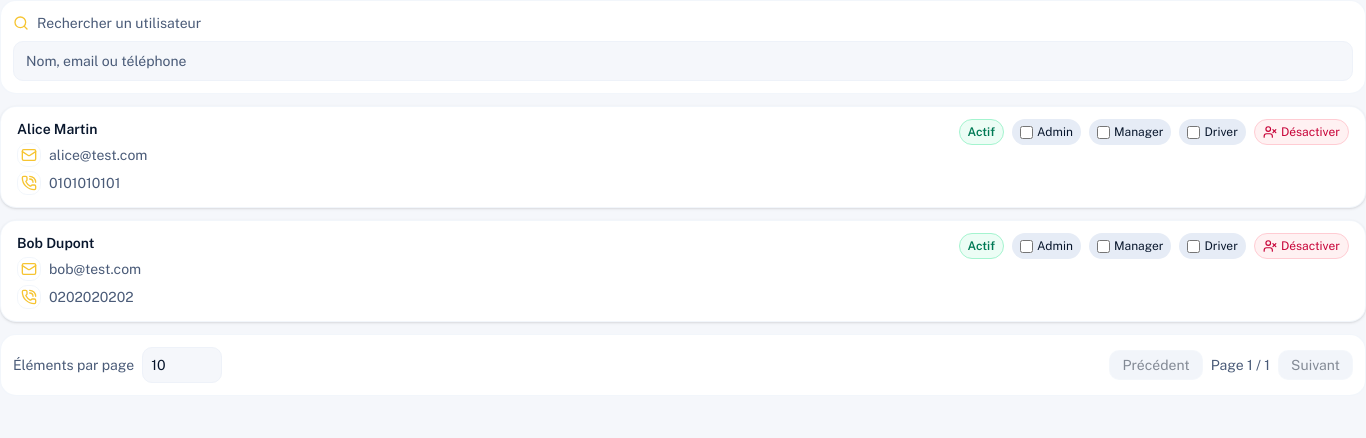
Test: UsersTable search and activation › désactive un utilisateur via le toggle
The width and height of the screenshot is (1366, 438).
Click the button with aria-label "Désactiver Alice Martin" at (1301, 132), box 1254,119 -> 1349,145
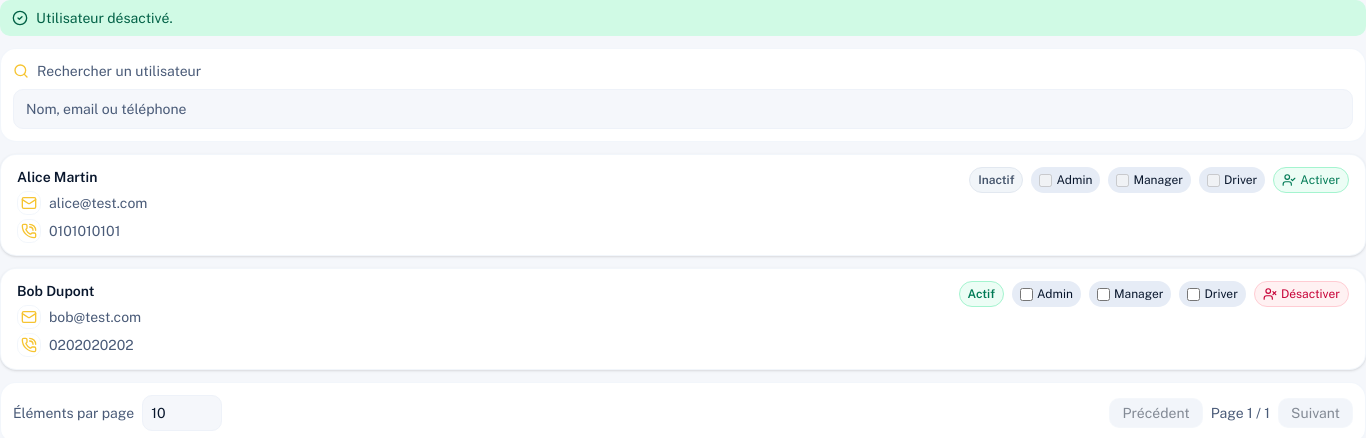
Expected: the text "Inactif" is shown, 969,167 -> 1023,193
